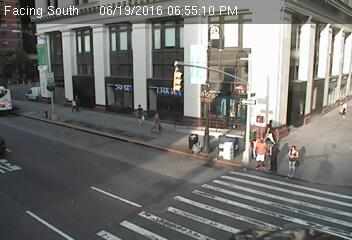neg: (223, 131, 251, 168), (194, 80, 220, 114), (184, 127, 208, 159), (30, 100, 54, 131), (18, 74, 41, 105), (278, 88, 301, 119), (211, 134, 233, 164), (227, 68, 249, 98), (244, 85, 265, 113), (295, 98, 314, 123), (232, 110, 245, 127)
pos: (245, 134, 275, 173), (279, 144, 307, 181), (260, 139, 286, 173), (126, 98, 151, 130), (259, 115, 281, 144), (147, 109, 167, 136), (334, 95, 351, 121), (67, 93, 83, 115)
